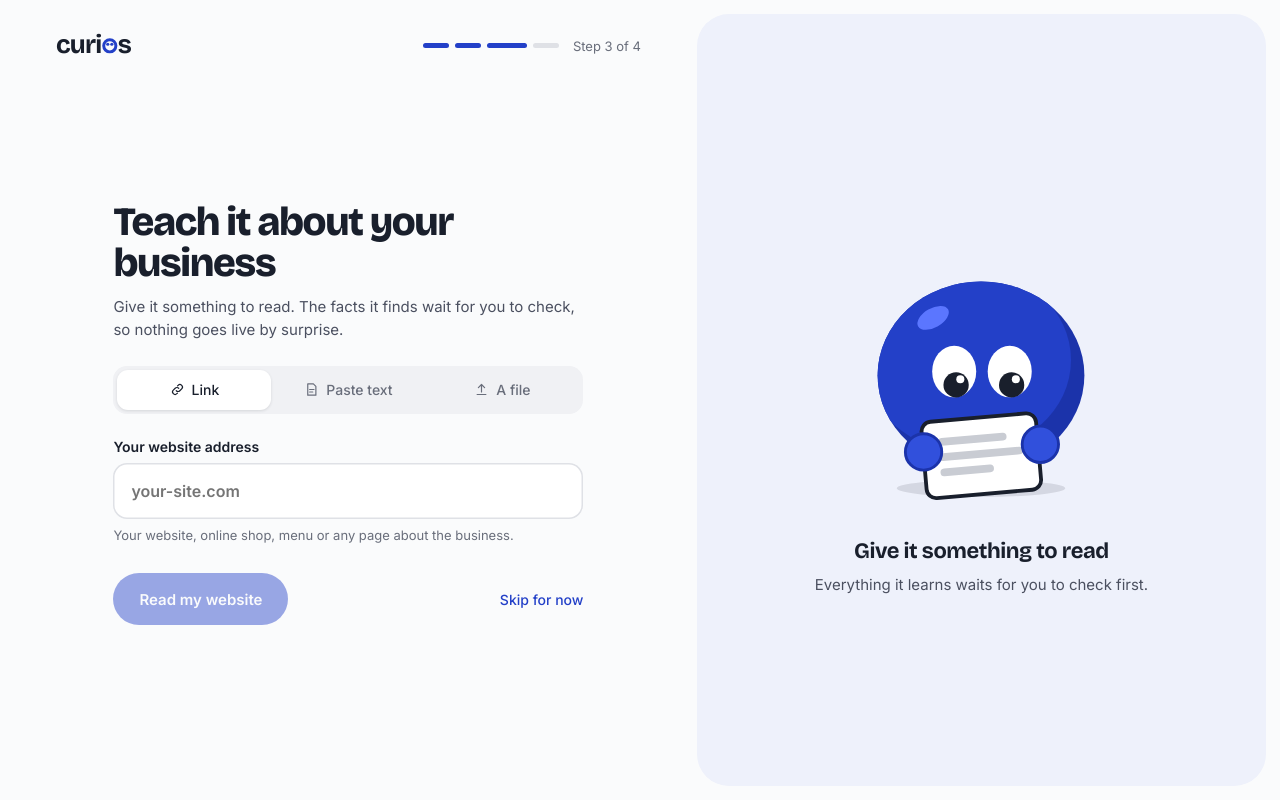
Test case: OnboardingFlow › will not read a login-walled profile, and says to paste instead
Type "instagram.com/keklina" into the field labelled "Your website address".
click(348, 491); type("instagram.com/keklina")  # box [130,465,568,517]
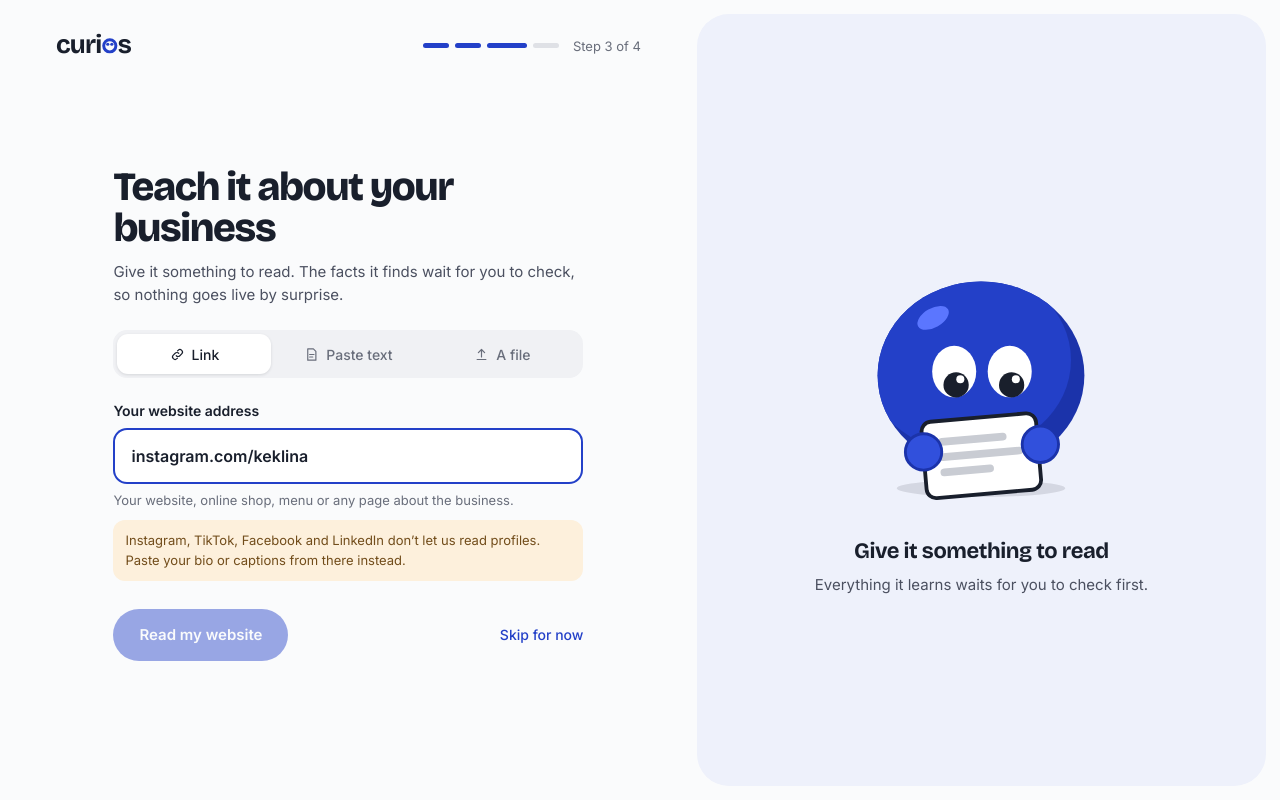
expect the button "Read my website" is disabled: met, box [114,608,288,660]
expect the text "don’t let us read profiles" is shown: met, box [126,532,540,568]
